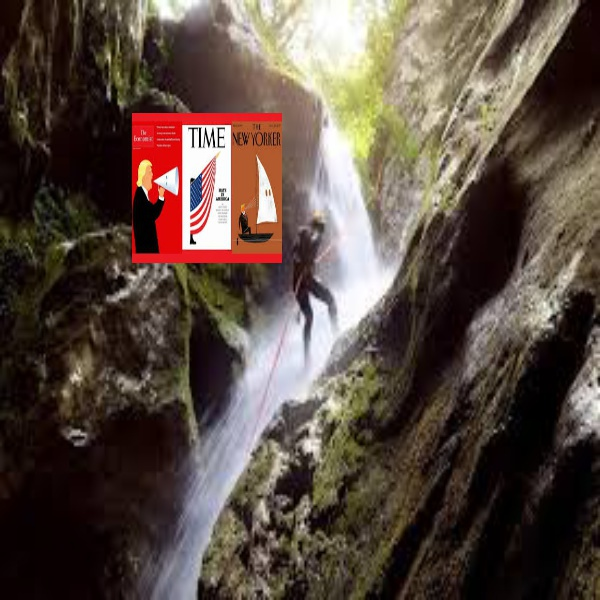time_cover: (128, 110, 181, 261), (190, 109, 226, 272)
